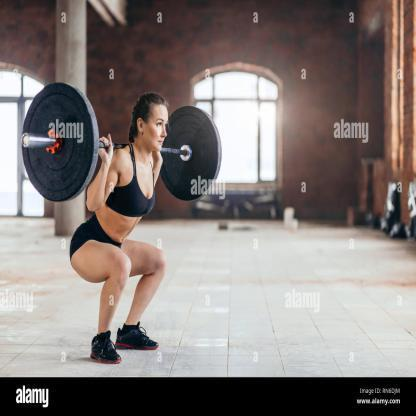Barbell: (19, 126, 37, 157)
